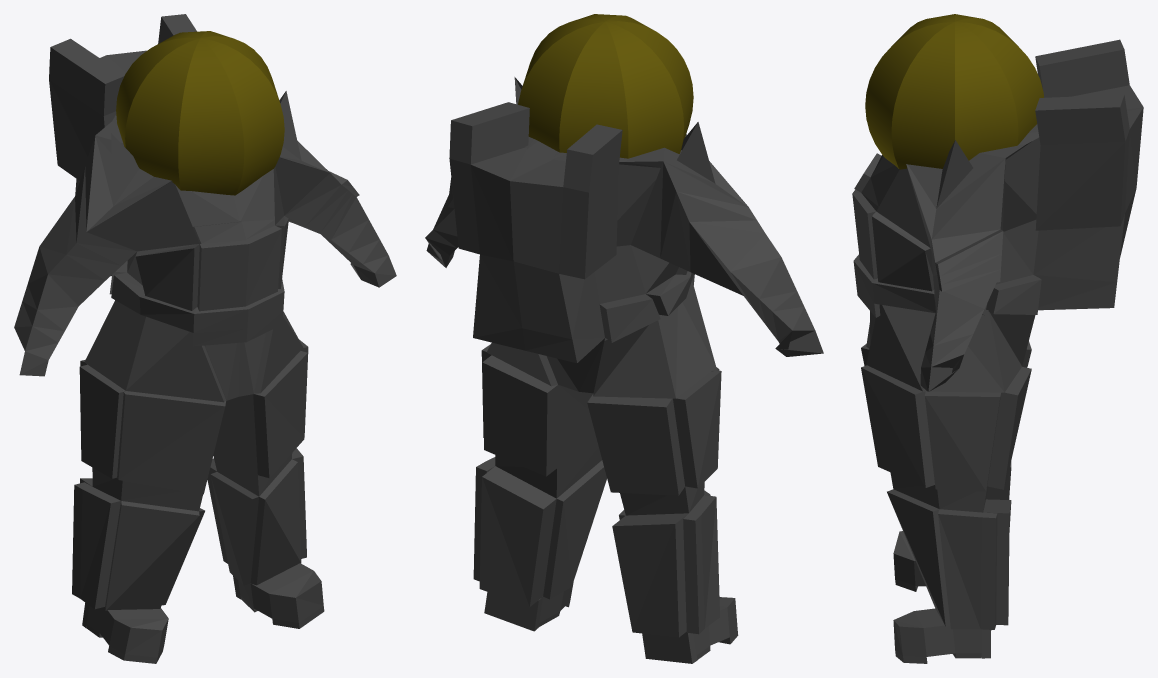
The model's file is clour anim (1).fbx.
3 renders of one model, left to right at view 1: azimuth 30°, elevation 25°; view 2: azimuth 150°, elevation 25°; view 3: azimuth 270°, elevation 25°, orthographic. The views are drawn at different scales.
Visible parts, largest first — view 1: pCube1, pSphere1; view 2: pCube1, pSphere1; view 3: pCube1, pSphere1.
Part boxes in pixels (x1,y1,x2,y2): pCube1: (14, 14, 396, 663); pSphere1: (116, 31, 284, 195); pCube1: (425, 77, 823, 663); pSphere1: (518, 14, 693, 158); pCube1: (852, 39, 1143, 663); pSphere1: (865, 14, 1043, 169).
Size of the model in its own units: 9.38 by 13.91 by 6.13.
